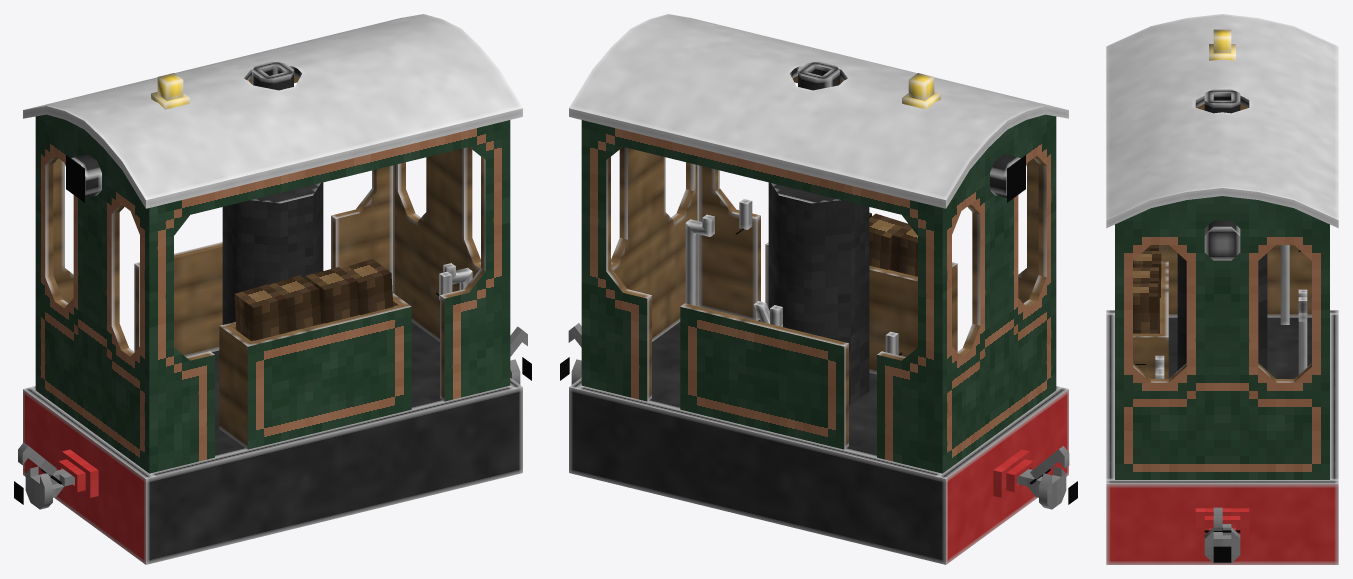
The model's file is kitsune_stormpeak_locomotive.obj.
3 views of the same model, side by side, from view 1: azimuth 30°, elevation 25°; view 2: azimuth 150°, elevation 25°; view 3: azimuth 270°, elevation 25° (orthographic). The views are drawn at different scales.
Visible parts, largest first — view 1: FRAME.bodyshell_Cube.009, FRAME.roof_Cube.005, FRAME.skirts_Cube.007, FRAME.runningboard_Cube.006, FRAME.boiler_Cube.010, CARGO_FILL_1_Cube.036, FRAME.runningboard.001_Cube.043, COUPLER_ENGAGED_FRONT_1_TOGGLE_LABEL_Uncouple_Cube.011, FRAME.chimney_Cube.012, FRAME.bell_realbell, WIDGET_1_CG_headfront_TOGGLE_LABEL_Front^Headlight_Cube.025, HEADLIGHT_1_0xFFF0E1_LCG_headfront_Cube.026; view 2: FRAME.bodyshell_Cube.009, FRAME.roof_Cube.005, FRAME.skirts_Cube.007, FRAME.boiler_Cube.010, FRAME.runningboard_Cube.006, FRAME.runningboard.001_Cube.043, COUPLER_ENGAGED_FRONT_1_TOGGLE_LABEL_Uncouple_Cube.011, CARGO_FILL_1_Cube.036, THROTTLE_1_LABEL_Regulator_Cube.015, FRAME.chimney_Cube.012, FRAME.bell_realbell, WIDGET_1_CG_headfront_TOGGLE_LABEL_Front^Headlight_Cube.025 (+1 smaller); view 3: FRAME.bodyshell_Cube.009, FRAME.roof_Cube.005, FRAME.runningboard_Cube.006, FRAME.skirts_Cube.007, FRAME.runningboard.001_Cube.043, CARGO_FILL_1_Cube.036, COUPLER_ENGAGED_REAR_2_TOGGLE_LABEL_Uncouple_Cube.011, FRAME.boiler_Cube.010, WIDGET_2_CG_headrear_TOGGLE_LABEL_Rear^Headlight_Cube.027, FRAME.chimney_Cube.012, REVERSER_1_LABEL_Reverser_Cube.014, THROTTLE_2_LABEL_Regulator_Cube.015 (+1 smaller).
Part boxes in pixels (x1,y1,x2,y2): FRAME.bodyshell_Cube.009: (35, 76, 510, 473); FRAME.roof_Cube.005: (23, 14, 522, 208); FRAME.skirts_Cube.007: (31, 386, 514, 562); FRAME.runningboard_Cube.006: (23, 378, 522, 564); FRAME.boiler_Cube.010: (222, 182, 323, 324); CARGO_FILL_1_Cube.036: (234, 259, 393, 341); FRAME.runningboard.001_Cube.043: (212, 322, 443, 457); COUPLER_ENGAGED_FRONT_1_TOGGLE_LABEL_Uncouple_Cube.011: (14, 449, 98, 509); FRAME.chimney_Cube.012: (252, 61, 293, 90); FRAME.bell_realbell: (151, 73, 189, 109); WIDGET_1_CG_headfront_TOGGLE_LABEL_Front^Headlight_Cube.025: (71, 154, 101, 198); HEADLIGHT_1_0xFFF0E1_LCG_headfront_Cube.026: (66, 155, 84, 202); FRAME.bodyshell_Cube.009: (581, 76, 1056, 473); FRAME.roof_Cube.005: (569, 14, 1068, 208); FRAME.skirts_Cube.007: (577, 386, 1060, 562); FRAME.boiler_Cube.010: (768, 182, 869, 404); FRAME.runningboard_Cube.006: (569, 378, 1068, 564); FRAME.runningboard.001_Cube.043: (648, 319, 876, 457); COUPLER_ENGAGED_FRONT_1_TOGGLE_LABEL_Uncouple_Cube.011: (993, 449, 1077, 509); CARGO_FILL_1_Cube.036: (869, 212, 917, 276); THROTTLE_1_LABEL_Regulator_Cube.015: (685, 214, 714, 306); FRAME.chimney_Cube.012: (798, 61, 839, 90); FRAME.bell_realbell: (902, 73, 940, 109); WIDGET_1_CG_headfront_TOGGLE_LABEL_Front^Headlight_Cube.025: (990, 154, 1020, 198); FRAME.bodyshell_Cube.009: (1115, 103, 1329, 479); FRAME.roof_Cube.005: (1106, 14, 1338, 228); FRAME.runningboard_Cube.006: (1106, 310, 1338, 564); FRAME.skirts_Cube.007: (1106, 313, 1338, 479); FRAME.runningboard.001_Cube.043: (1168, 317, 1311, 378); CARGO_FILL_1_Cube.036: (1133, 245, 1161, 333); COUPLER_ENGAGED_REAR_2_TOGGLE_LABEL_Uncouple_Cube.011: (1195, 508, 1249, 563); FRAME.boiler_Cube.010: (1177, 253, 1267, 370); WIDGET_2_CG_headrear_TOGGLE_LABEL_Rear^Headlight_Cube.027: (1204, 220, 1240, 260); FRAME.chimney_Cube.012: (1204, 89, 1240, 113); REVERSER_1_LABEL_Reverser_Cube.014: (1298, 289, 1307, 374); THROTTLE_2_LABEL_Regulator_Cube.015: (1280, 245, 1289, 324).
Bounding box in the file's own units: 3.88 × 3.25 × 1.62.
Materials: 6 (6 with a texture image).
